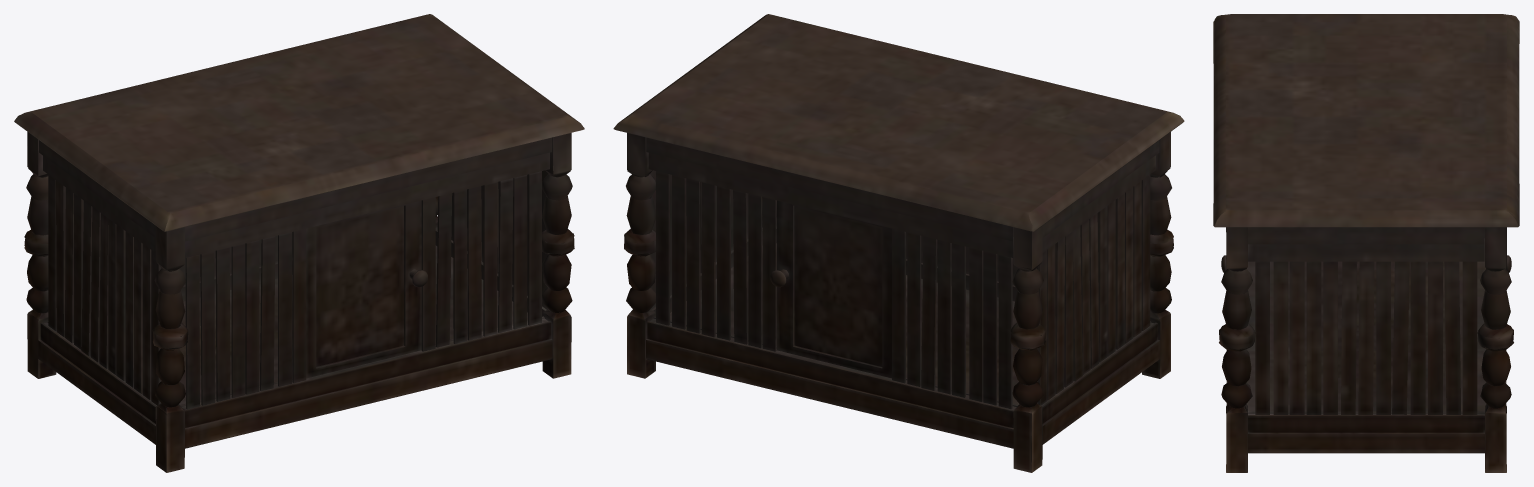
The model's file is plank_table.glb.
3 renders of one model, left to right at view 1: azimuth 30°, elevation 25°; view 2: azimuth 150°, elevation 25°; view 3: azimuth 270°, elevation 25°, orthographic.
Visible parts, largest first — view 1: gallinera_table, gallinera_table_door_a; view 2: gallinera_table, gallinera_table_door_b; view 3: gallinera_table.
Boxes of the visible parts, left/top/right/bottom form: gallinera_table: left=14, top=14, right=584, bottom=472; gallinera_table_door_a: left=306, top=200, right=427, bottom=378; gallinera_table: left=613, top=14, right=1184, bottom=472; gallinera_table_door_b: left=770, top=200, right=891, bottom=378; gallinera_table: left=1213, top=14, right=1519, bottom=472.
Size of the model in its own units: 0.8301 by 0.4877 by 0.518.
Materials: 1 (1 with a texture image).
